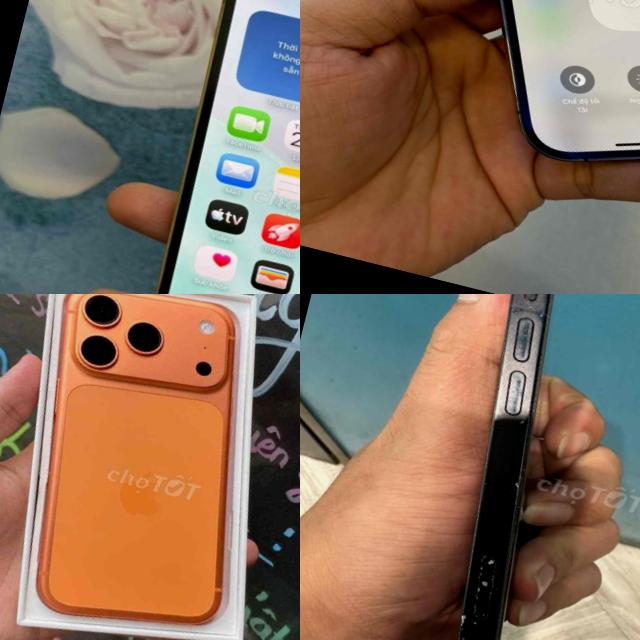scratch: (474, 356, 568, 544), (407, 537, 534, 640), (491, 294, 586, 356)
